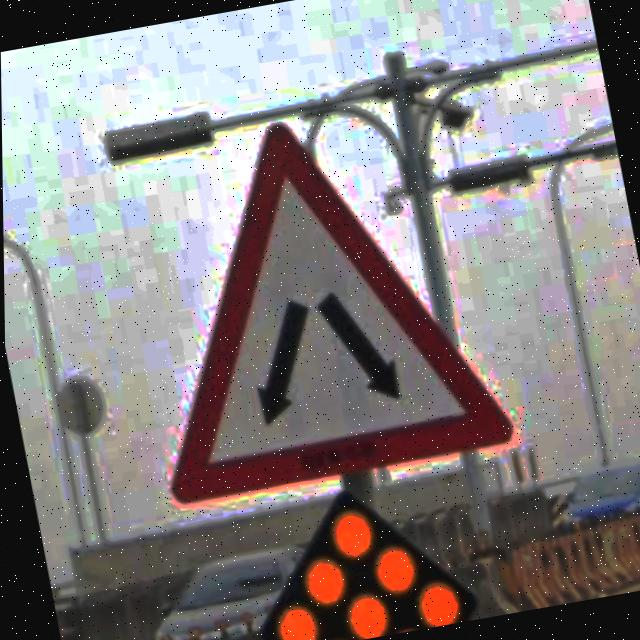diverge: (103, 89, 515, 508)
